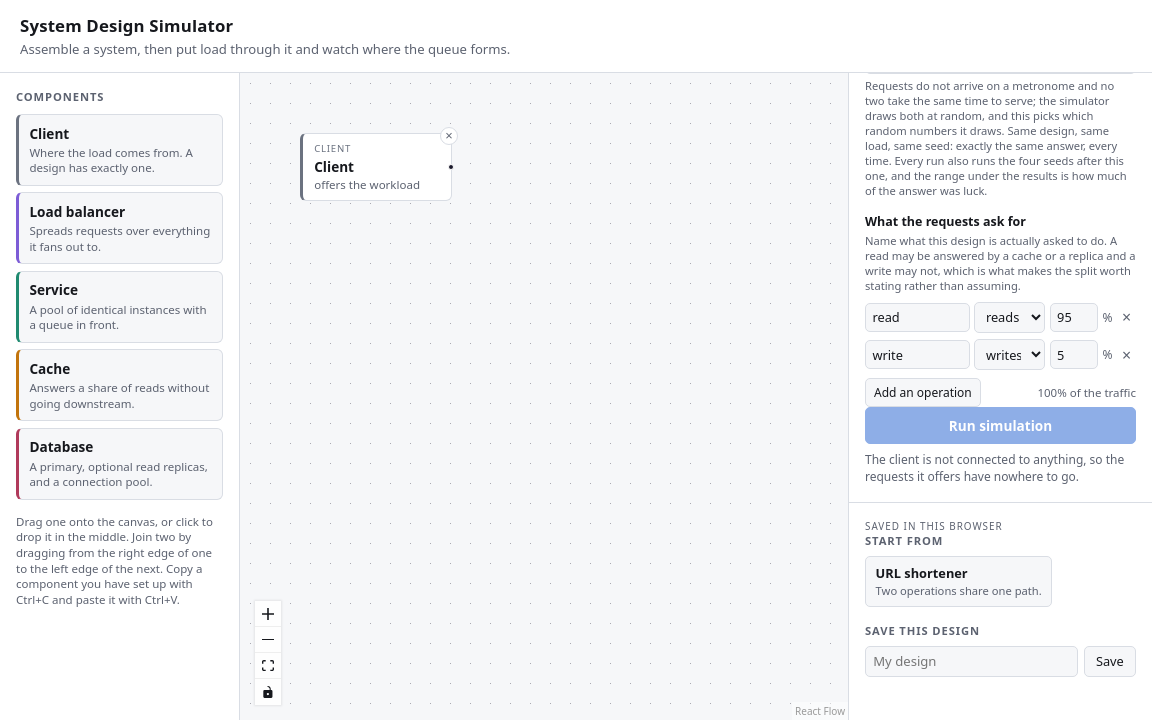
Home › takes the load a preset was written for through to the run settings
The width and height of the screenshot is (1152, 720).
(page scrolled)
expect the text "URL shortener" is shown: met, box [876,564,968,582]
expect the field showing "resolve" is not shown: met
Click the button "URL shortener Two operations share one path.": click(959, 581) [865,556,1052,607]
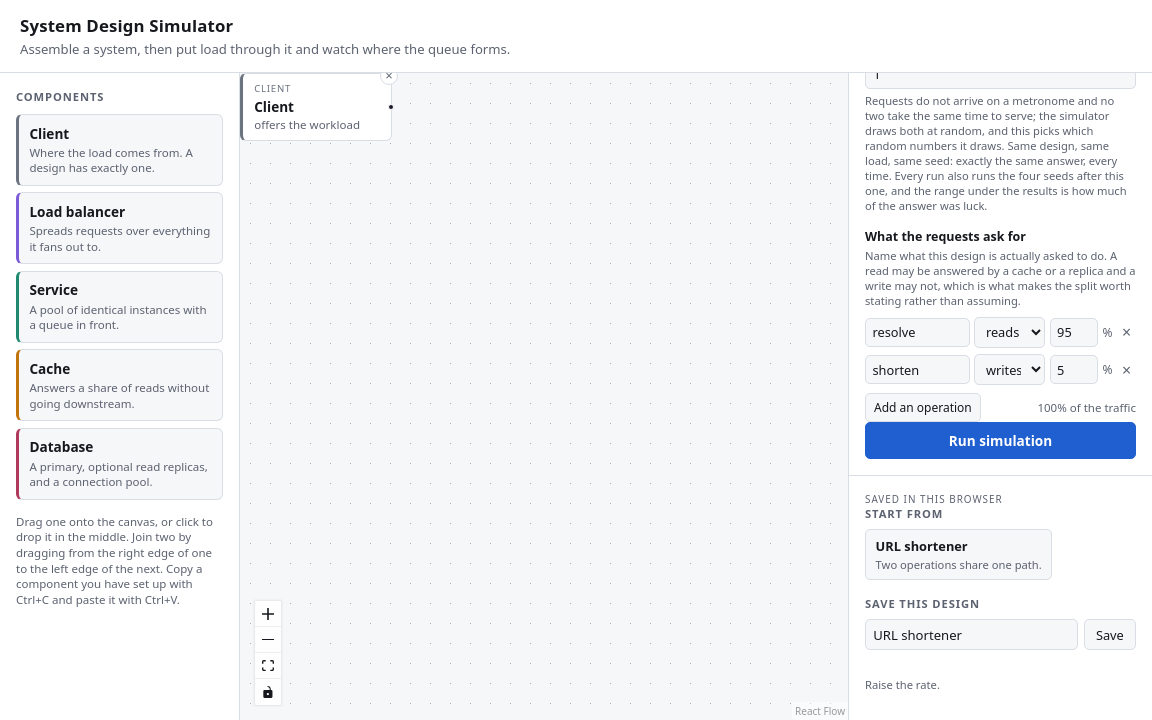
expect the field showing "resolve" is shown: met, box [865,318,970,347]
expect the field showing "shorten" is shown: met, box [865,355,970,384]
